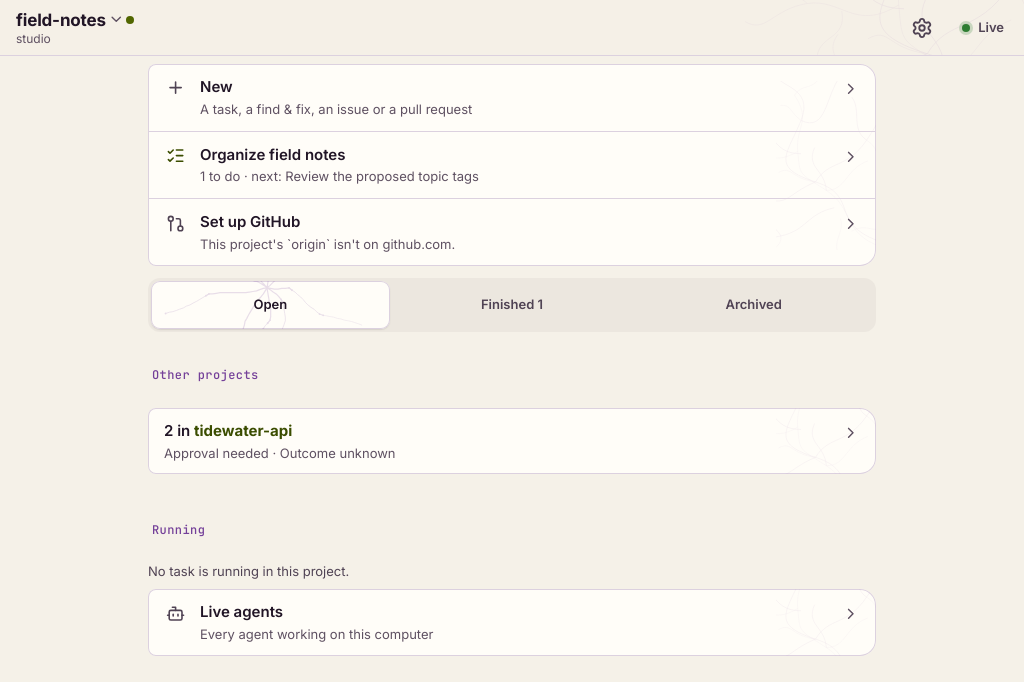
locates other projects’ decisions from Needs you and the project switcher
The width and height of the screenshot is (1024, 682).
Click the button "2 in tidewater-api Approval needed · Outcome unknown": point(243, 430) x1=148 y1=408 x2=876 y2=474
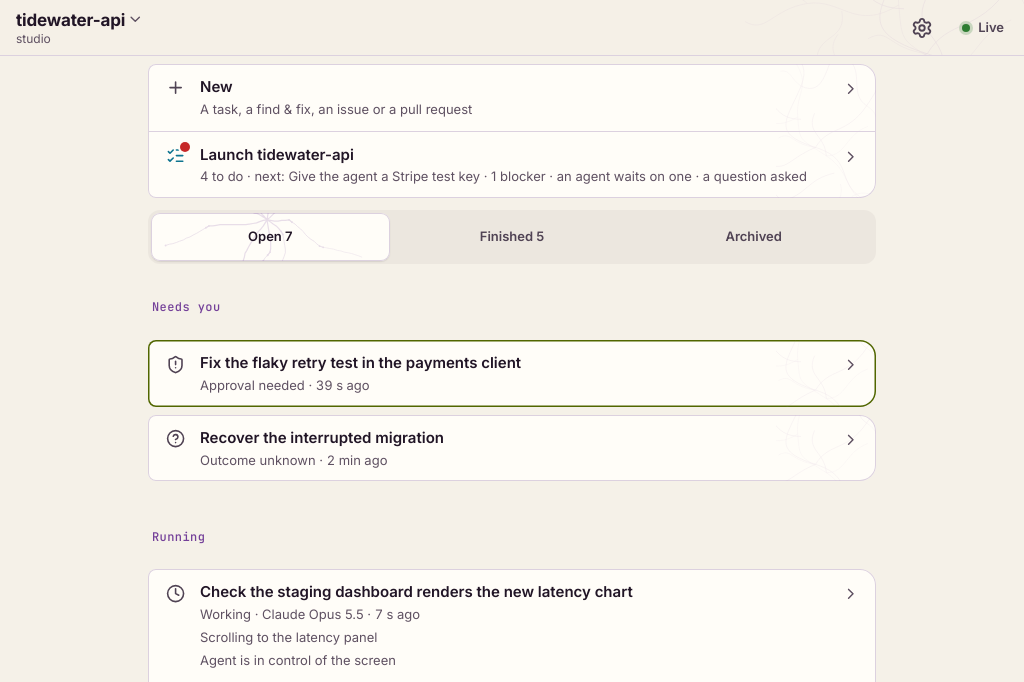
The header's project name is the one switcher.
Click the button "tidewater-api studio": point(80, 28) x1=8 y1=4 x2=152 y2=52
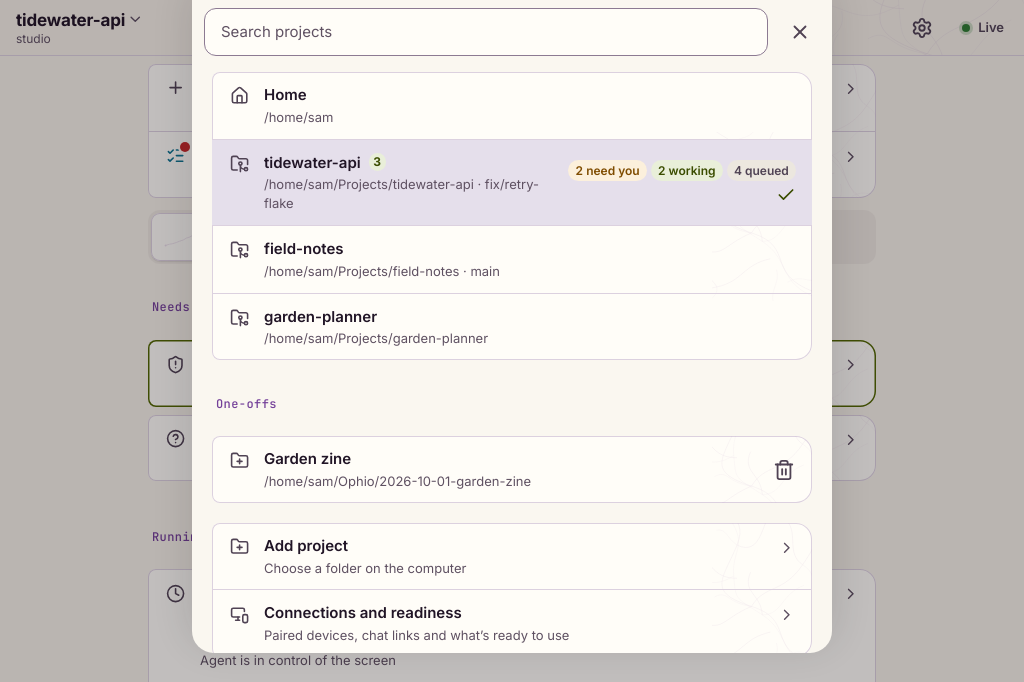
Now the button that starts with "tidewater-api" is shown, box x1=212 y1=139 x2=812 y2=225
